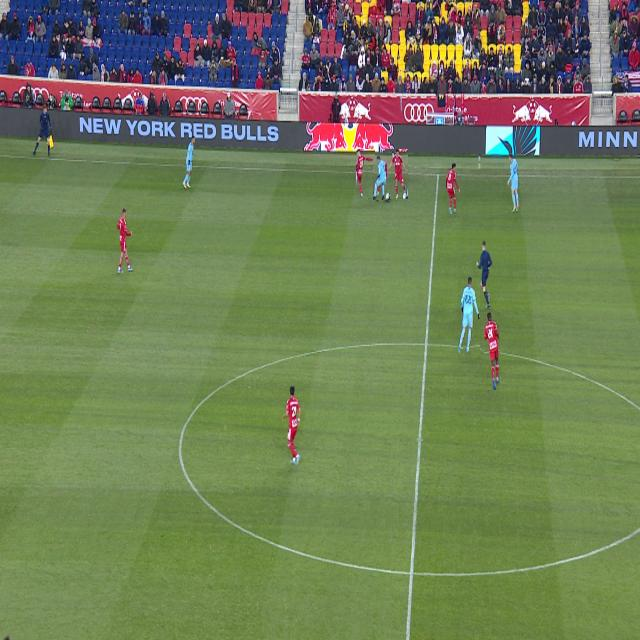football: (386, 194, 390, 200)
player: (458, 278, 480, 356), (281, 386, 301, 464), (484, 313, 500, 390), (385, 149, 408, 199), (117, 208, 133, 274), (356, 150, 375, 198), (446, 163, 461, 214), (507, 154, 519, 213), (182, 136, 195, 189), (373, 157, 387, 200), (379, 185, 384, 197)
referee: (476, 241, 492, 309)
